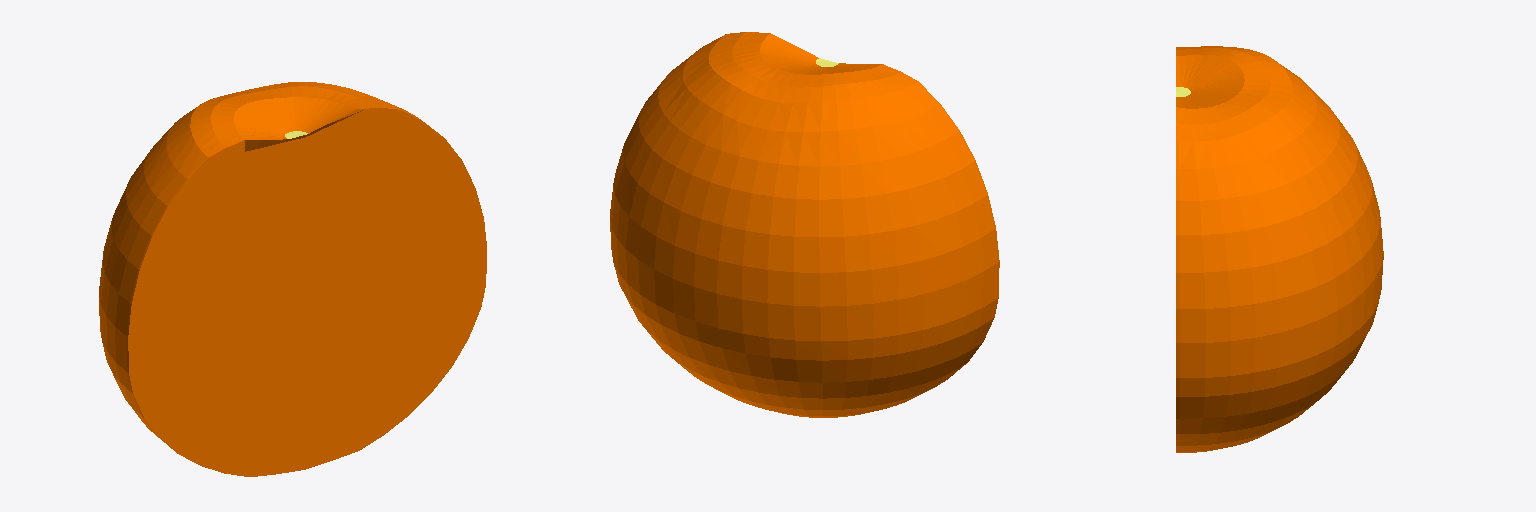
File: half_orange.obj
3 views of the same model, side by side, from view 1: azimuth 30°, elevation 25°; view 2: azimuth 150°, elevation 25°; view 3: azimuth 270°, elevation 25° (orthographic).
Visible parts, largest first — view 1: Orange_Half02, Orange02; view 2: Orange02; view 3: Orange02.
Boxes of the visible parts, x1,y1,x2,y2 form: Orange_Half02: [128, 108, 486, 476]; Orange02: [99, 82, 442, 453]; Orange02: [610, 32, 999, 417]; Orange02: [1176, 46, 1383, 452].
Bounding box in the file's own units: 18.78 × 17.48 × 9.39.